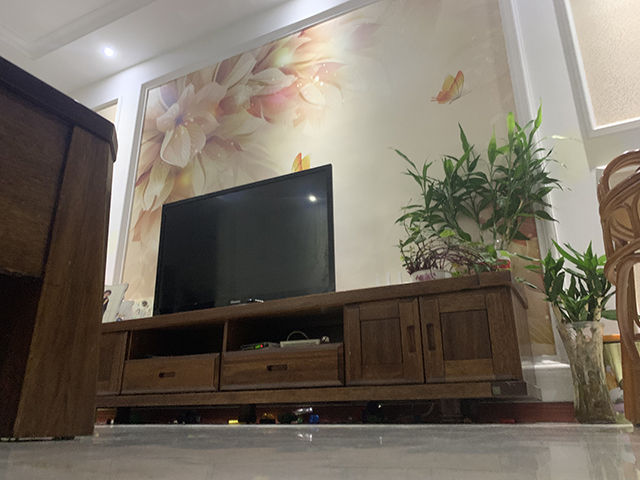cabinet: (93, 267, 545, 425)
